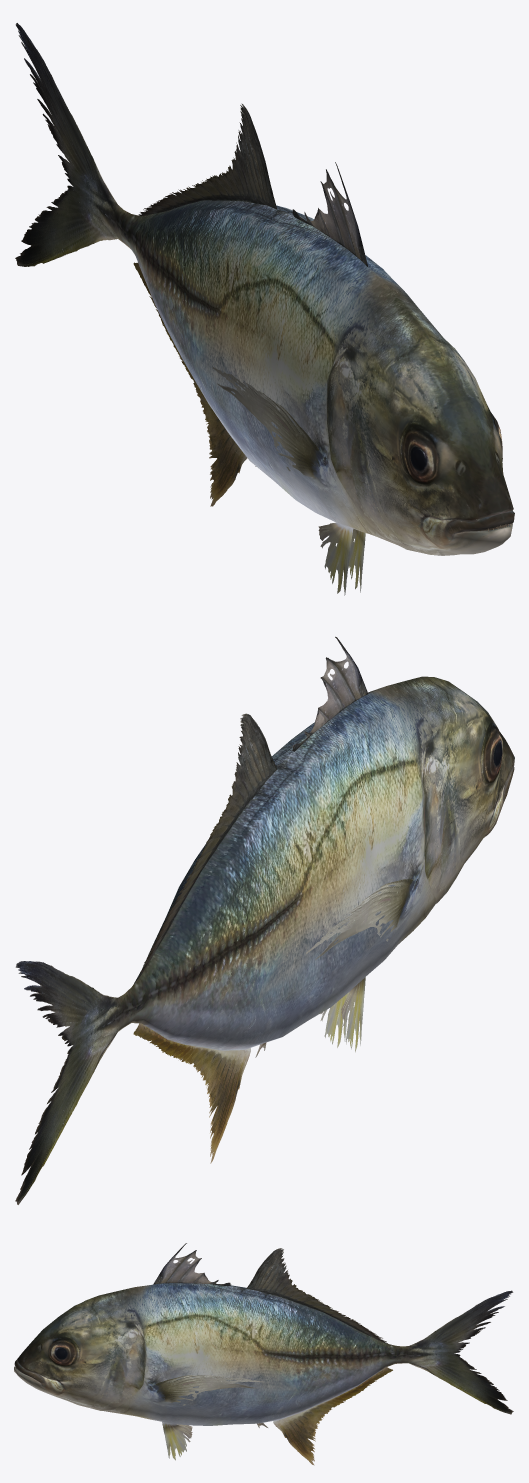
The model's file is Nagaeba_No0011 1.fbx.
The picture shows the model from 3 angles, top to bottom: view 1: azimuth 30°, elevation 25°; view 2: azimuth 150°, elevation 25°; view 3: azimuth 270°, elevation 25°; orthographic projection. The views are drawn at different scales.
Parts seen in each view (by area): view 1: 1_Body, 2_DorsalFin_AnalFin; view 2: 1_Body, 2_DorsalFin_AnalFin; view 3: 1_Body, 2_DorsalFin_AnalFin.
Boxes of the visible parts, x1,y1,x2,y2 form: 1_Body: [15, 23, 514, 595]; 2_DorsalFin_AnalFin: [133, 103, 367, 506]; 1_Body: [15, 676, 514, 1204]; 2_DorsalFin_AnalFin: [133, 636, 368, 1163]; 1_Body: [14, 1283, 513, 1460]; 2_DorsalFin_AnalFin: [153, 1243, 392, 1465].
Bounding box in the file's own units: 0.0316 × 0.2542 × 0.1269.
2 materials, 2 textured.
